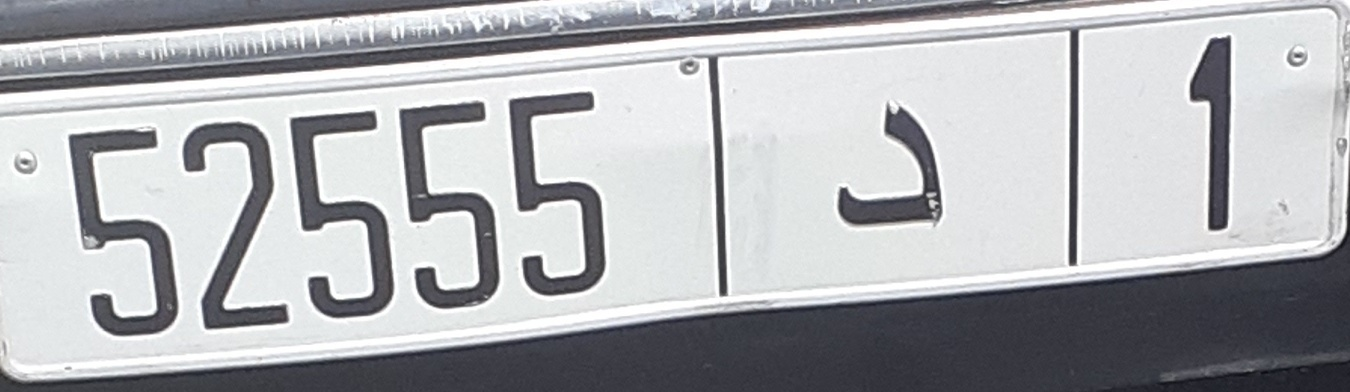1: (1184, 34, 1242, 235)
2: (181, 119, 290, 329)
5: (62, 124, 183, 340), (285, 108, 395, 323), (395, 100, 505, 310), (505, 87, 613, 299)
d: (817, 98, 955, 232)
